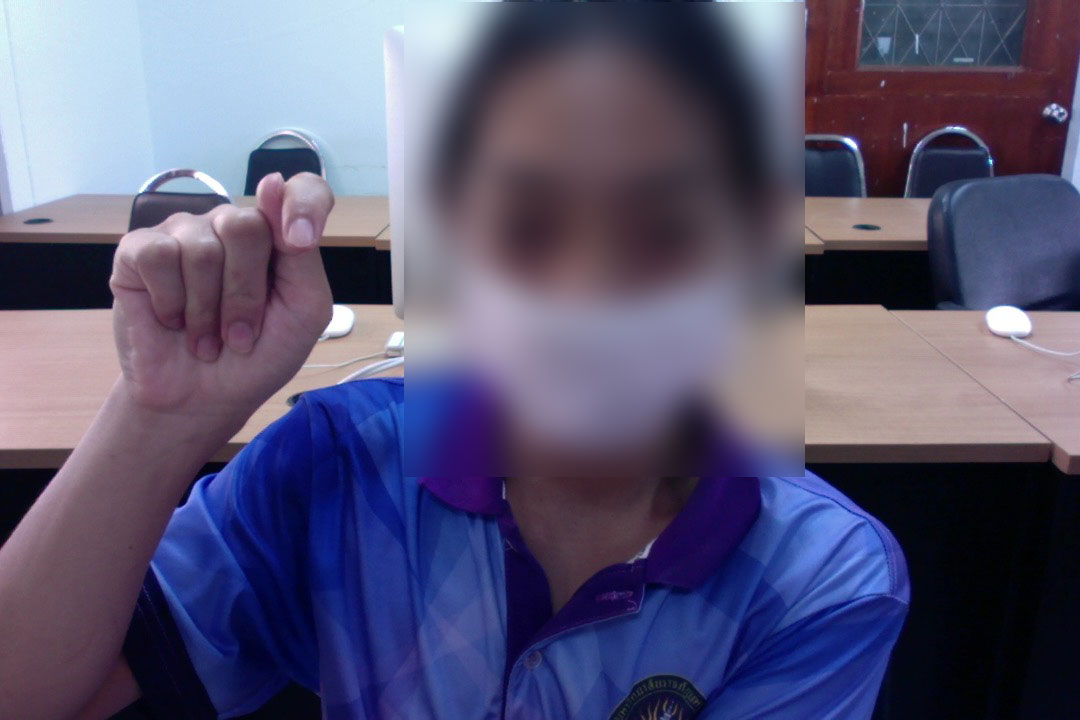tor: (99, 165, 342, 439)
